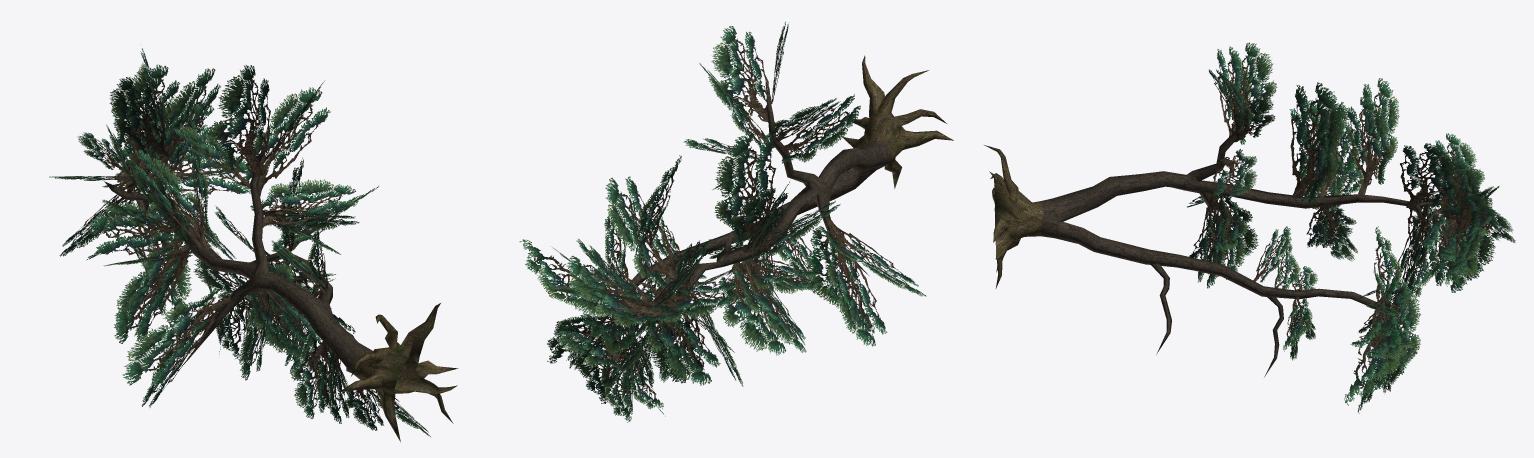
File: songshu001.FBX
3 renders of one model, left to right at view 1: azimuth 30°, elevation 25°; view 2: azimuth 150°, elevation 25°; view 3: azimuth 270°, elevation 25°, orthographic. The views are drawn at different scales.
Visible parts, largest first — view 1: titan_256_songshu_03; view 2: titan_256_songshu_03; view 3: titan_256_songshu_03.
Part boxes in pixels (x1,y1,x2,y2): titan_256_songshu_03: (49, 48, 458, 442); titan_256_songshu_03: (519, 21, 953, 422); titan_256_songshu_03: (984, 42, 1515, 413).
Size of the model in its own units: 6.16 by 6.58 by 8.73.
3 materials, 3 textured.
